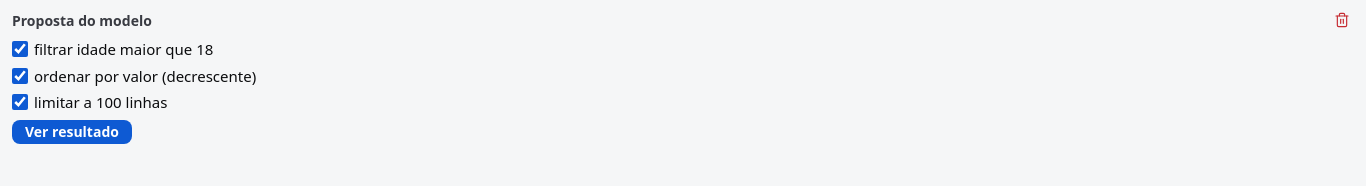
Scenario: erro do motor › shows the engine text and leaves the steps editable
Click the button "Ver resultado" at (72, 132), box [12, 120, 132, 144]
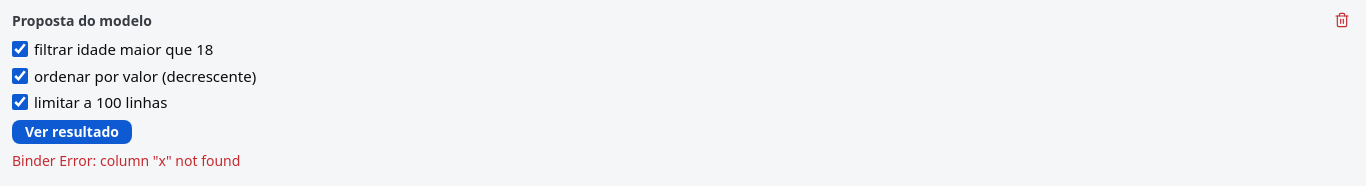
Expected: the checkbox labelled "filtrar idade maior que 18" is enabled, [12, 41, 28, 57]
Result: the message shows "column \"x\" not found" at [12, 150, 240, 170]
